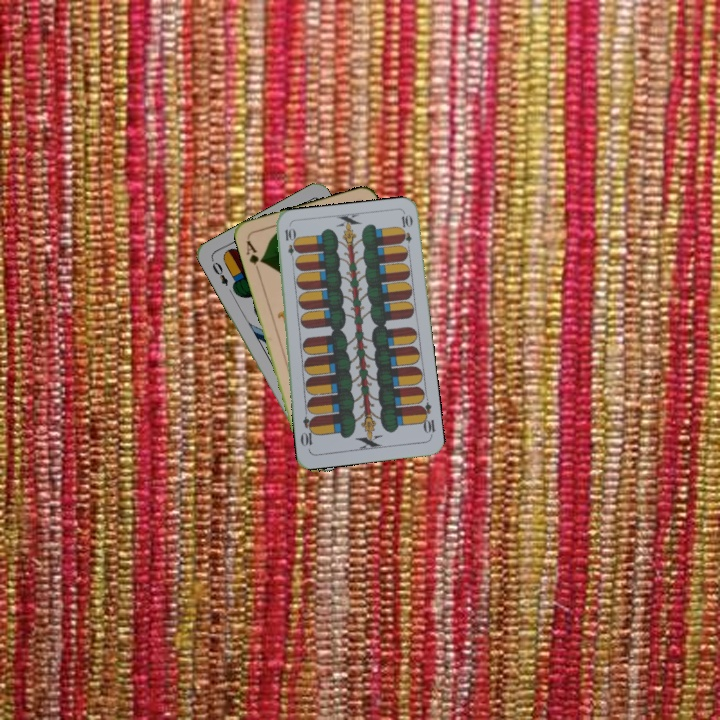E10: (416, 399, 438, 439), (281, 224, 298, 265)
EO: (208, 258, 231, 289)
GA: (242, 235, 266, 275)
